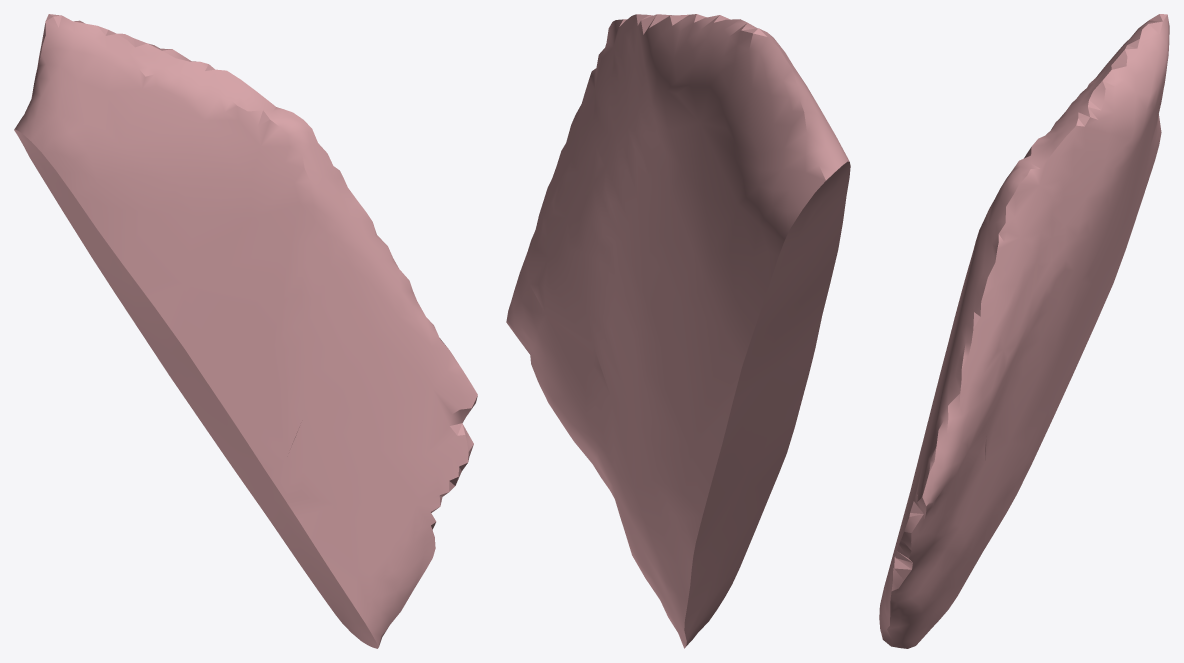
File: fma39377-n_mm1969m.glb
The picture shows the model from 3 angles, left to right: view 1: azimuth 30°, elevation 25°; view 2: azimuth 150°, elevation 25°; view 3: azimuth 270°, elevation 25°; orthographic projection. The views are drawn at different scales.
Parts seen in each view (by area): view 1: FMA39377-N_MM1969M; view 2: FMA39377-N_MM1969M; view 3: FMA39377-N_MM1969M.
Boxes of the visible parts, left/top/right/bottom form: FMA39377-N_MM1969M: left=14, top=14, right=477, bottom=648; FMA39377-N_MM1969M: left=506, top=14, right=850, bottom=648; FMA39377-N_MM1969M: left=879, top=14, right=1169, bottom=648.
Bounding box in the file's own units: 0.00881 × 0.014 × 0.00669.
